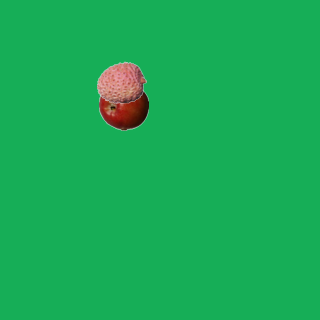Apple Braeburn: (98, 80, 148, 130)
Lychee: (96, 57, 146, 107)
